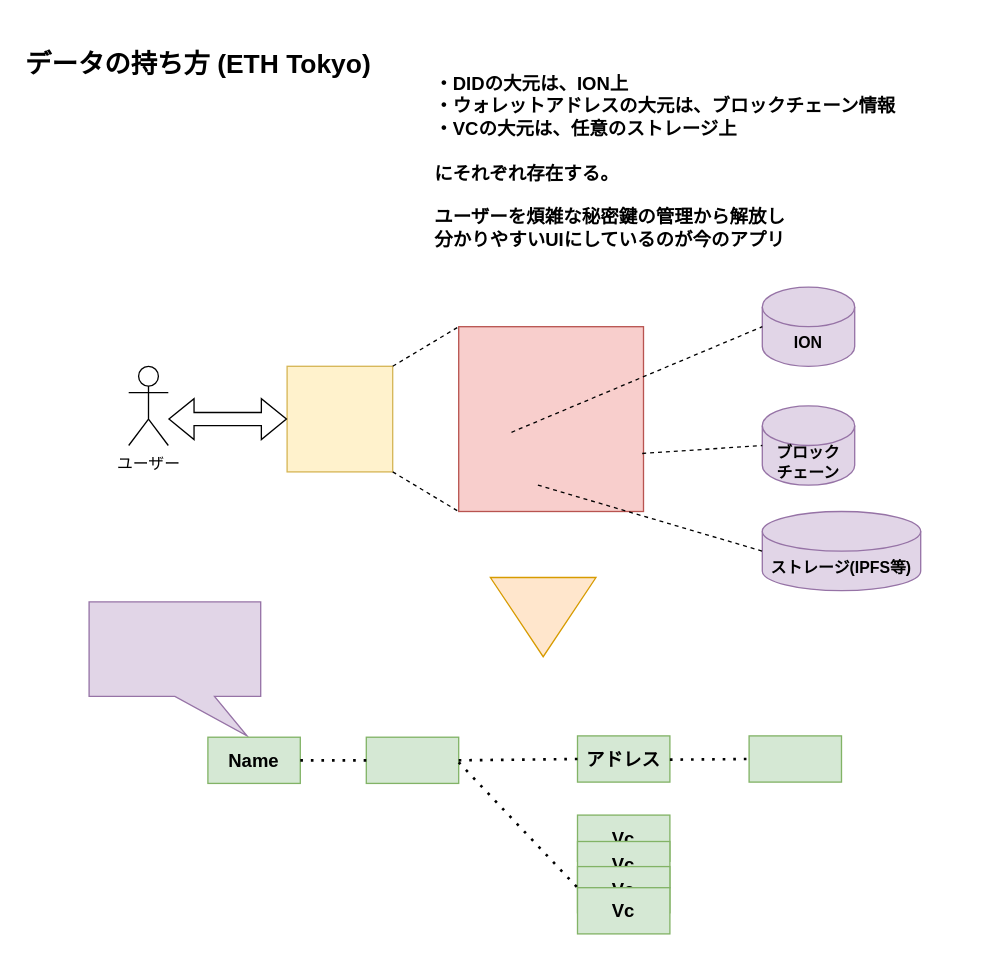
This 982x957 diagram has some shape labels left out. The centre of each missing label's shape, as x and y in pixels:
App: (x=339, y=418)
DID: (x=412, y=759)
NameとDIDを紐づける Name Service ENS: (x=174, y=668)
Token: (x=795, y=758)
登録データ(Soul) (スマコンで管理) ・DID ・Name ・ウォレットアドレス ・VC (配列): (x=550, y=418)
